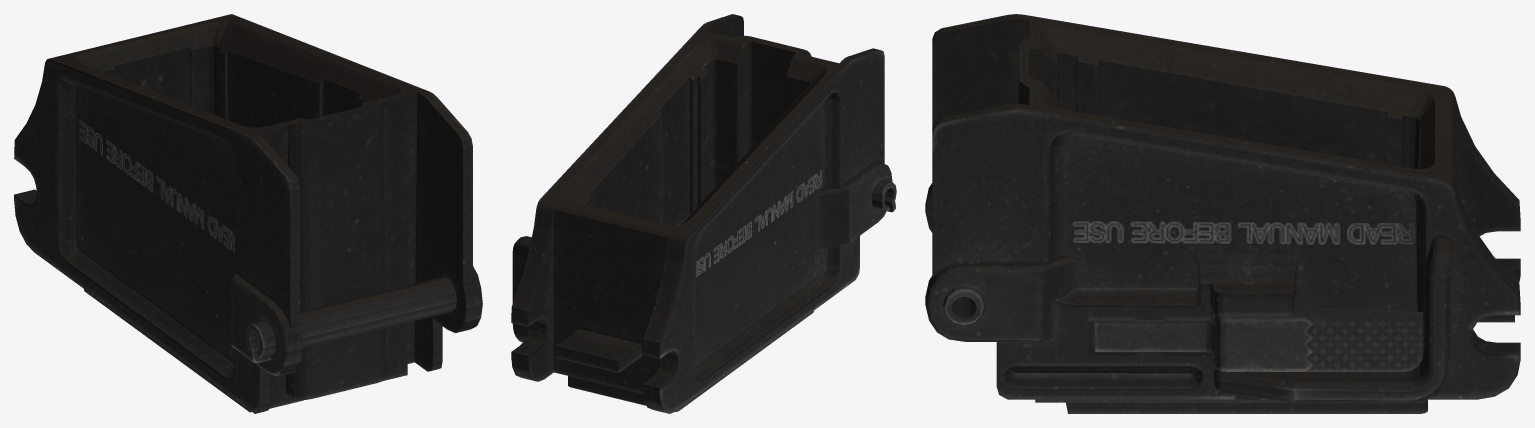
3 renders of one model, left to right at view 1: azimuth 30°, elevation 25°; view 2: azimuth 150°, elevation 25°; view 3: azimuth 270°, elevation 25°, orthographic. The views are drawn at different scales.
Parts seen in each view (by area): view 1: TW_622f039199f4ea1a4d6c9a17_PZ_Import; view 2: TW_622f039199f4ea1a4d6c9a17_PZ_Import; view 3: TW_622f039199f4ea1a4d6c9a17_PZ_Import.
Part boxes in pixels (left/top/right/bottom): TW_622f039199f4ea1a4d6c9a17_PZ_Import: left=14, top=14, right=482, bottom=413; TW_622f039199f4ea1a4d6c9a17_PZ_Import: left=511, top=14, right=896, bottom=413; TW_622f039199f4ea1a4d6c9a17_PZ_Import: left=925, top=14, right=1520, bottom=413.
Bounding box in the file's own units: 0.0293 × 0.0585 × 0.0344.
1 material, 1 textured.
